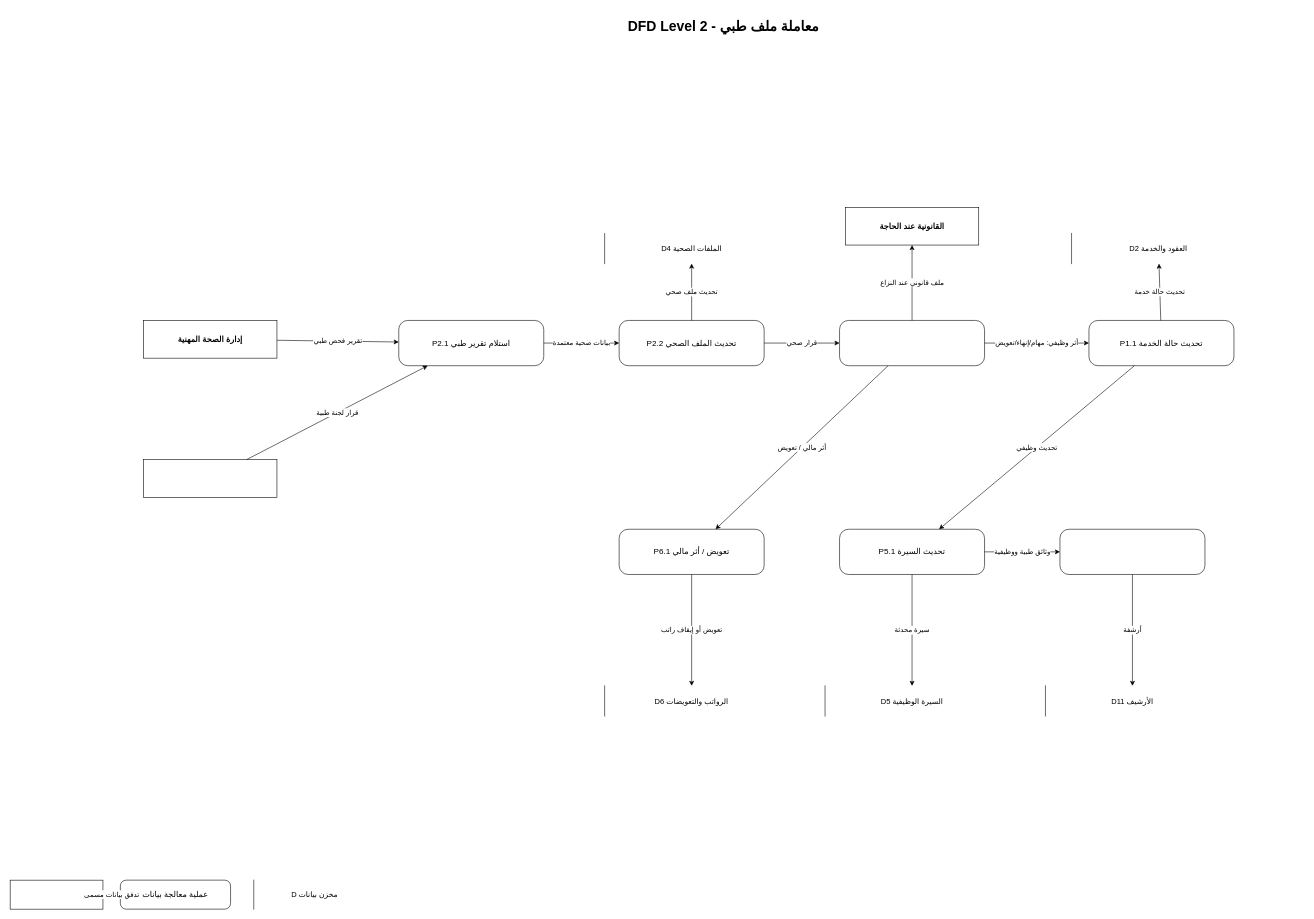
Image size: 1314x919. Some labels were removed from this diagram. The centre of each missing label's shape, as x and y in pixels:
"P2.3 تحويل القرار إلى أثر وظيفي" belongs at point 912,343.
"P7.1 أرشفة الملف الطبي" belongs at point 1132,551.
"اللجان الطبية" belongs at point 210,478.
"كيان خارجي" belongs at point 56,894.
